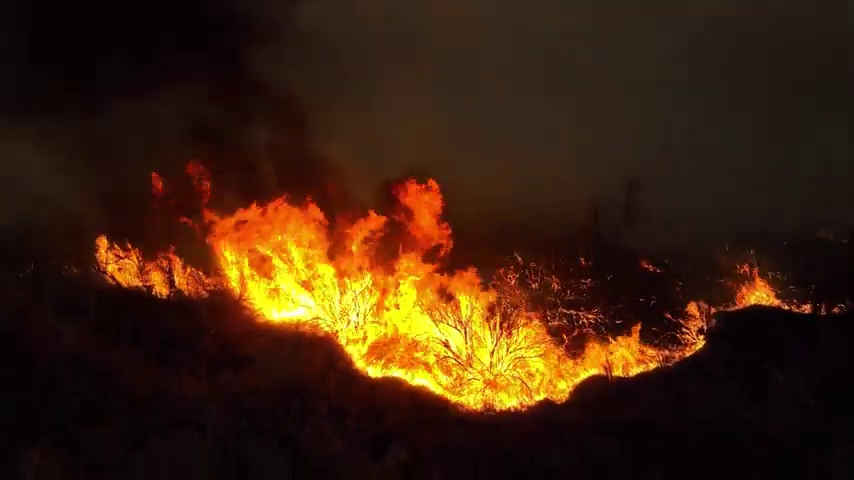forest_fire: (95, 162, 715, 408), (717, 266, 803, 309), (152, 174, 162, 197), (551, 281, 560, 287)
